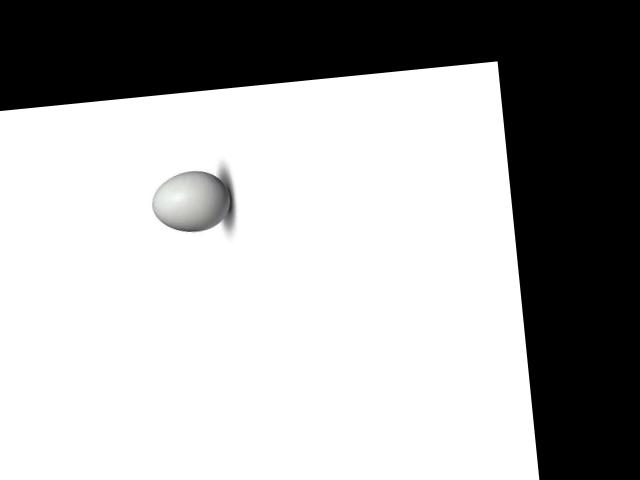egg: (148, 167, 232, 234)
